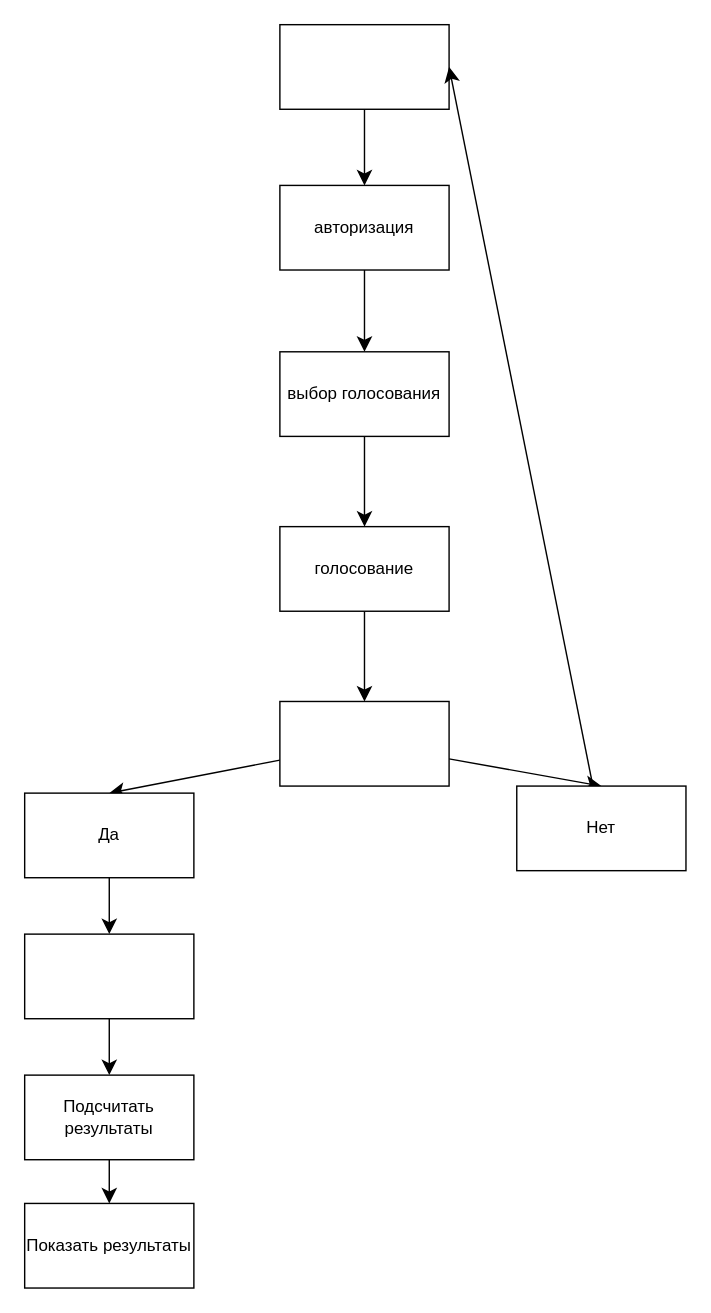
The diagram is 711 pixels wide and 1313 high, and some of its shapes have lost their labels. Here are the shapes that lost their labels. From the top down, the box of each, then its label:
(278, 23, 449, 109): начало
(278, 700, 449, 786): проверка "голосовал ранее?"
(23, 933, 194, 1019): Сохранить голос
